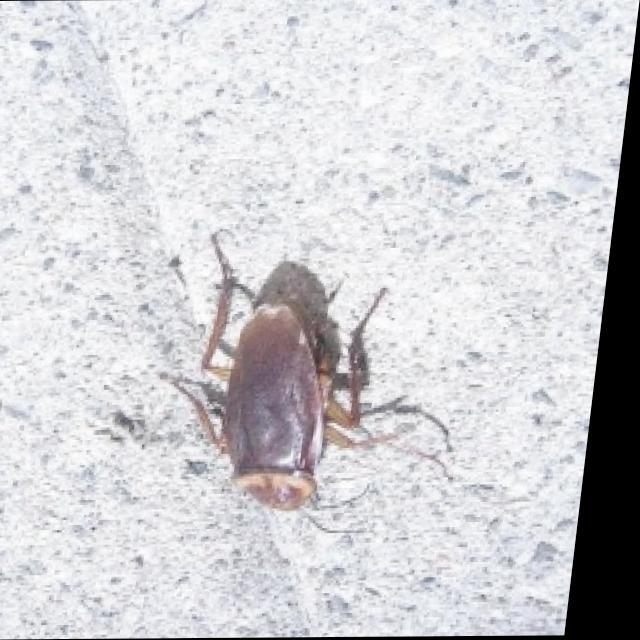cockroach: (154, 227, 456, 520)
